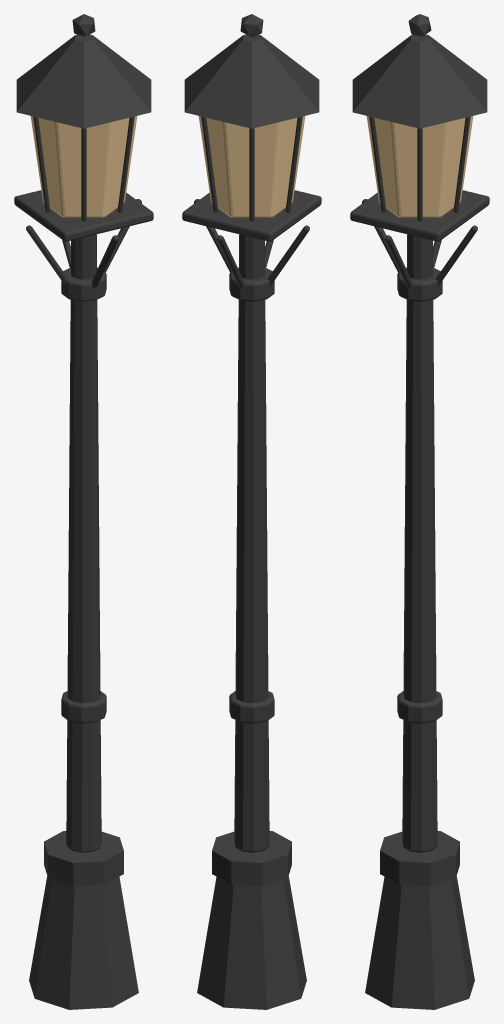
Rendered from StreetLamp.fbx.
3 renders of one model, left to right at view 1: azimuth 30°, elevation 25°; view 2: azimuth 150°, elevation 25°; view 3: azimuth 330°, elevation 25°, orthographic.
Visible parts, largest first — view 1: StreetLamp; view 2: StreetLamp; view 3: StreetLamp.
Part boxes in pixels (x1=…): StreetLamp: x1=14, y1=14, x2=153, y2=1009; StreetLamp: x1=182, y1=14, x2=321, y2=1009; StreetLamp: x1=350, y1=14, x2=489, y2=1009.
Size of the model in its own units: 0.6 by 4.15 by 0.5196.
